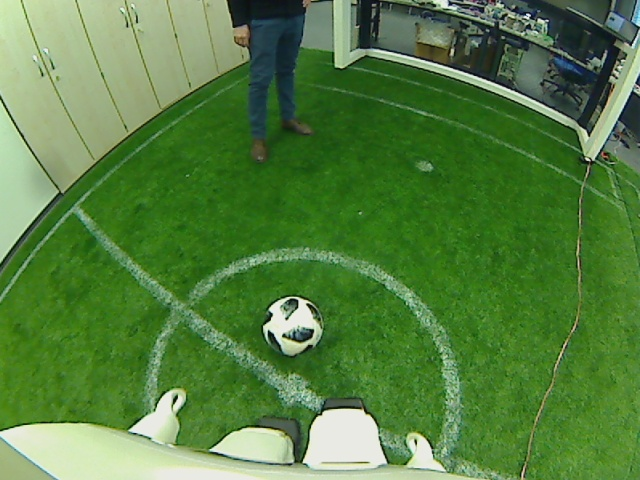ball: (260, 292, 323, 358)
